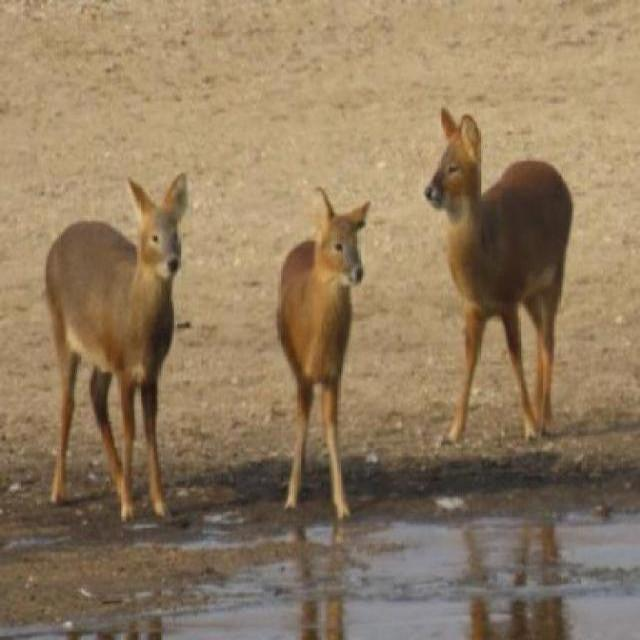deer: (44, 162, 198, 533), (422, 97, 578, 451), (268, 185, 368, 523)
